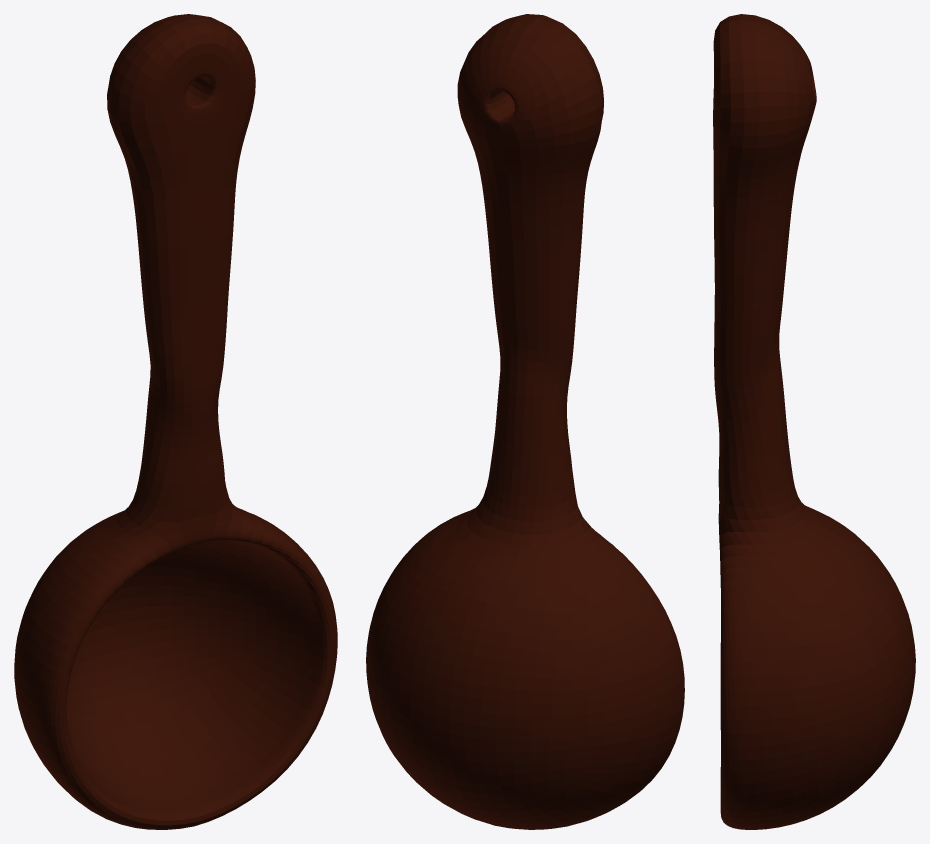
Rendered from uploads_files_3185467_JU.fbx.
The picture shows the model from 3 angles, left to right: view 1: azimuth 30°, elevation 25°; view 2: azimuth 150°, elevation 25°; view 3: azimuth 270°, elevation 25°; orthographic projection.
Parts seen in each view (by area): view 1: sa3; view 2: sa3; view 3: sa3.
Boxes of the visible parts, x1,y1,x2,y2 form: sa3: (14,14,337,829); sa3: (366,14,684,829); sa3: (713,14,915,829).
Size of the model in its own units: 124 by 324 by 74.99.
